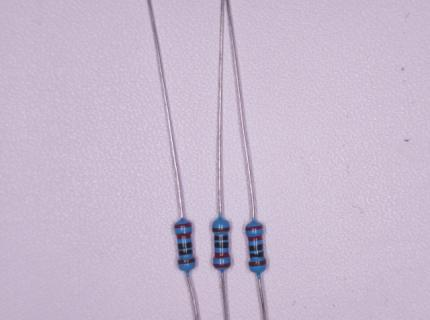Black band: (249, 244, 263, 252), (250, 251, 264, 258), (214, 242, 228, 248), (178, 243, 192, 249), (179, 250, 192, 255), (214, 236, 228, 240)
Brown band: (178, 258, 195, 264), (249, 260, 266, 266), (213, 227, 229, 232)
Red band: (177, 233, 191, 240), (214, 252, 229, 258), (245, 225, 263, 230), (174, 223, 191, 228), (248, 235, 262, 241), (214, 263, 230, 268)
